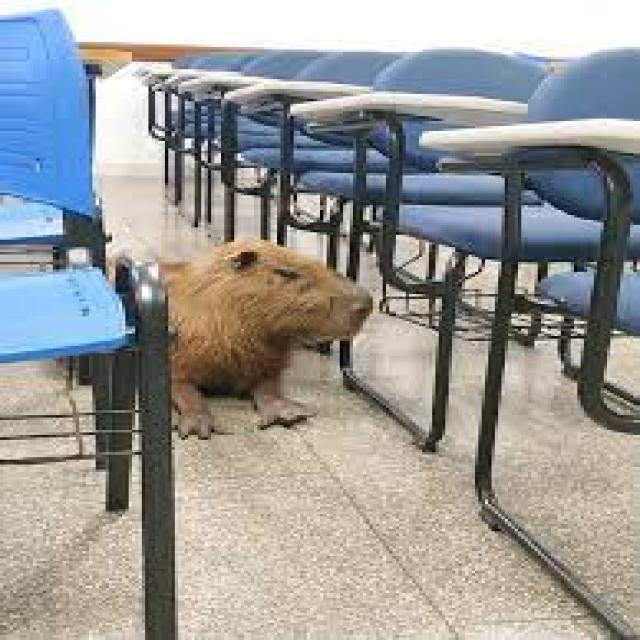capy: (136, 241, 374, 438)
